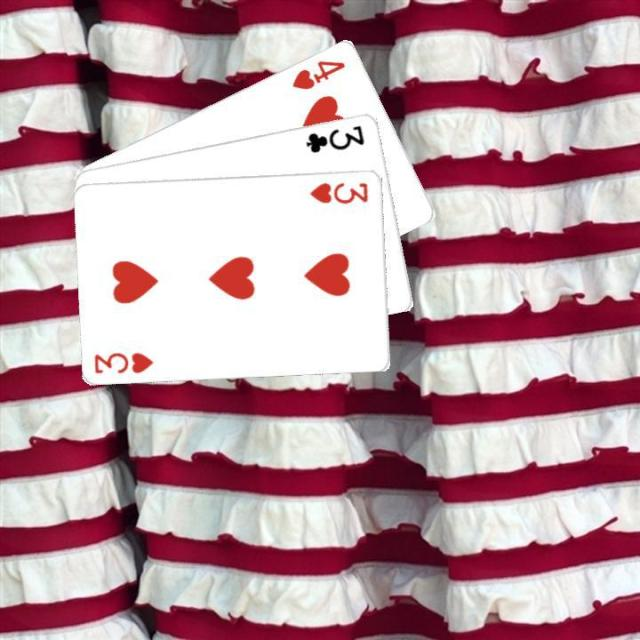3C: (302, 121, 367, 155)
3H: (90, 348, 156, 375), (306, 179, 369, 205)
4H: (288, 55, 348, 92)
